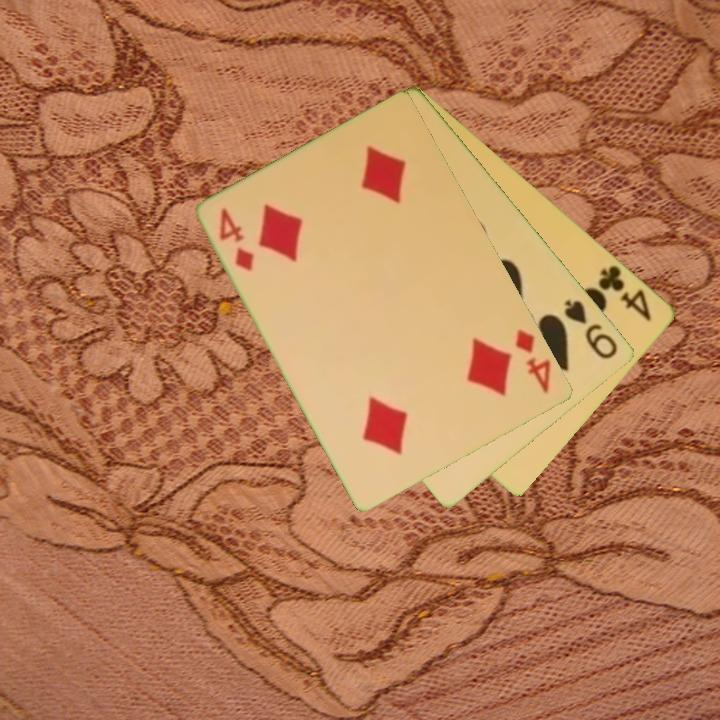4c: (595, 261, 655, 324)
4d: (512, 326, 555, 397), (216, 204, 258, 275)
9s: (561, 296, 622, 363)
